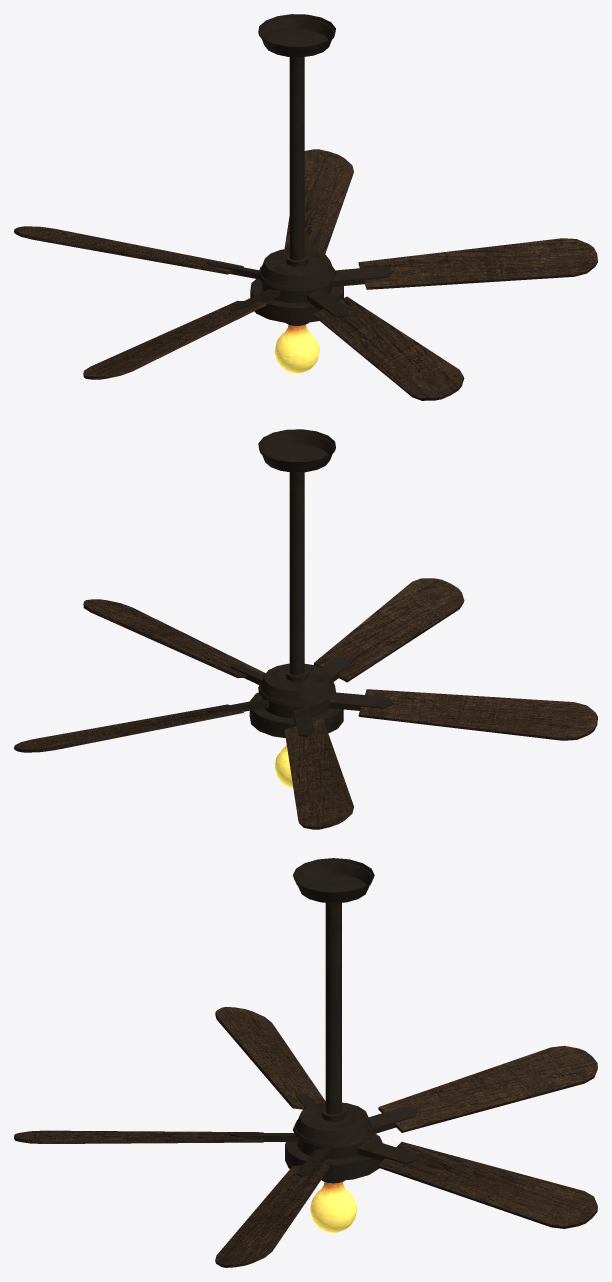
Rendered from ceiling_fan_mp_2_1_light_on.glb.
3 views of the same model, one above another, from view 1: azimuth 30°, elevation 25°; view 2: azimuth 150°, elevation 25°; view 3: azimuth 270°, elevation 25° (orthographic). The views are drawn at different scales.
Parts seen in each view (by area): view 1: ceiling_fan_mp_2_1_light_on_blades, ceiling_fan_mp_2_1_light_on; view 2: ceiling_fan_mp_2_1_light_on_blades, ceiling_fan_mp_2_1_light_on; view 3: ceiling_fan_mp_2_1_light_on_blades, ceiling_fan_mp_2_1_light_on.
Boxes of the visible parts, box(x1,y1,x2,y2) form: ceiling_fan_mp_2_1_light_on_blades: box(14, 149, 597, 400); ceiling_fan_mp_2_1_light_on: box(250, 14, 343, 373); ceiling_fan_mp_2_1_light_on_blades: box(14, 578, 597, 829); ceiling_fan_mp_2_1_light_on: box(249, 429, 343, 788); ceiling_fan_mp_2_1_light_on_blades: box(14, 1007, 597, 1267); ceiling_fan_mp_2_1_light_on: box(285, 858, 382, 1232).
Bounding box in the file's own units: 1.11 × 0.7128 × 1.06.
Materials: 3 (3 with a texture image).
